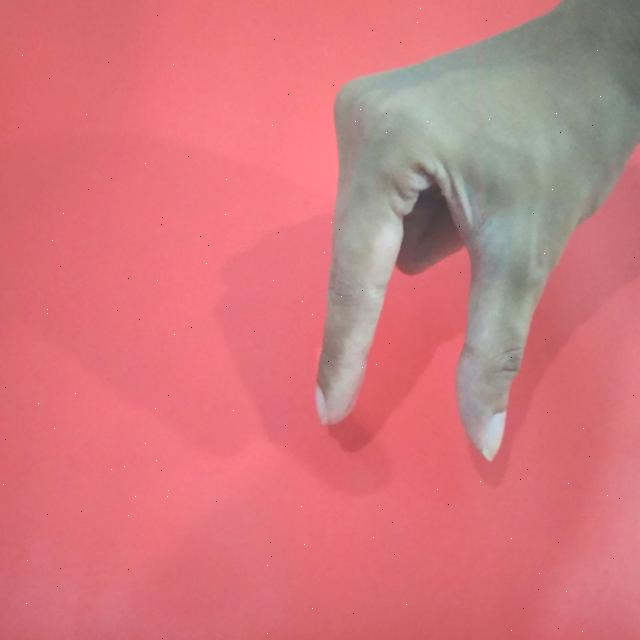Q: (302, 0, 640, 467)
